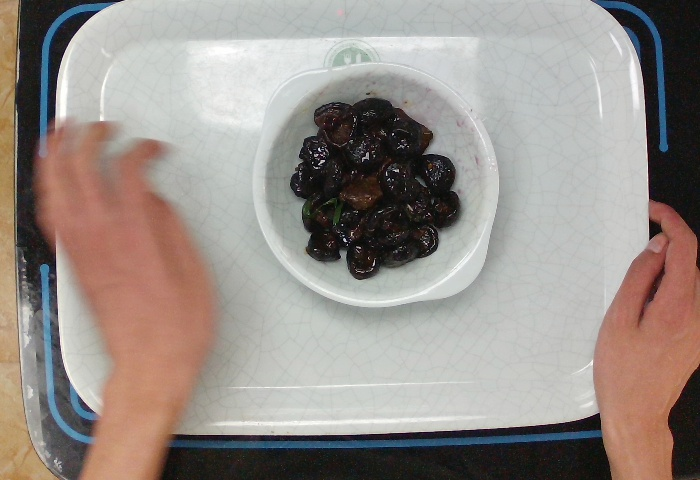JYsf-Shuang_Er_Wan: (246, 59, 505, 313)
